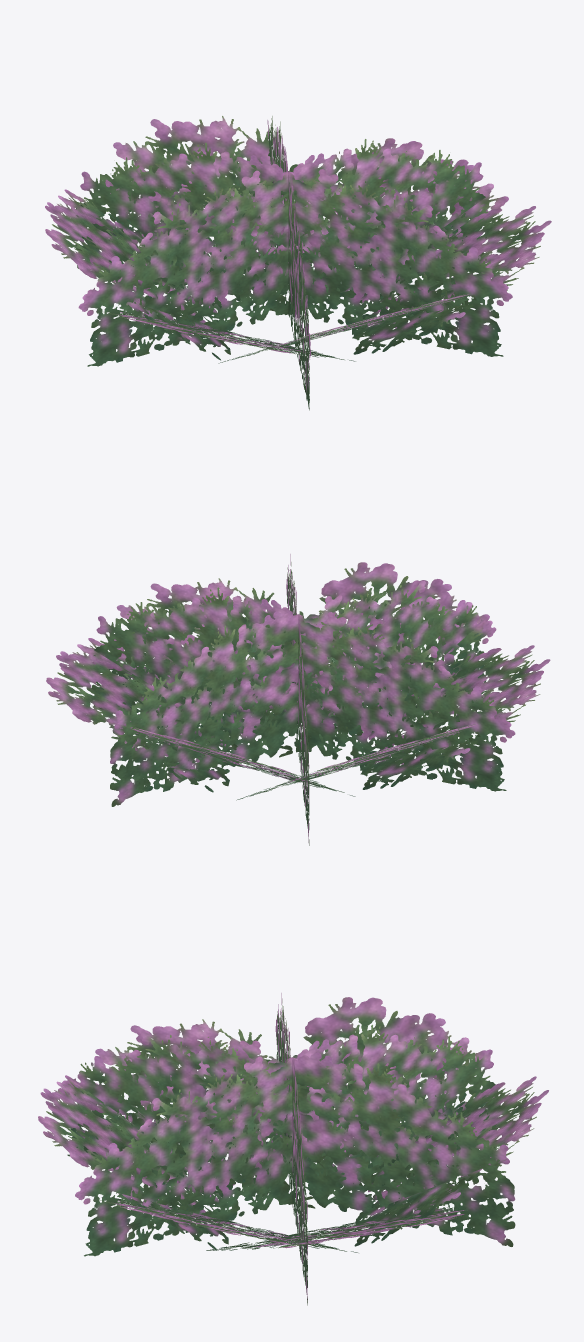
File: shrub_heather.glb
The picture shows the model from 3 angles, top to bottom: view 1: azimuth 30°, elevation 25°; view 2: azimuth 150°, elevation 25°; view 3: azimuth 270°, elevation 25°; orthographic projection. The views are drawn at different scales.
Visible parts, largest first — view 1: shrub_heather; view 2: shrub_heather; view 3: shrub_heather.
Boxes of the visible parts, x1,y1,x2,y2 form: shrub_heather: (45, 116, 551, 410); shrub_heather: (46, 554, 550, 845); shrub_heather: (38, 993, 548, 1305).
Bounding box in the file's own units: 0.7928 × 0.25 × 0.6832.
1 material, 1 textured.
